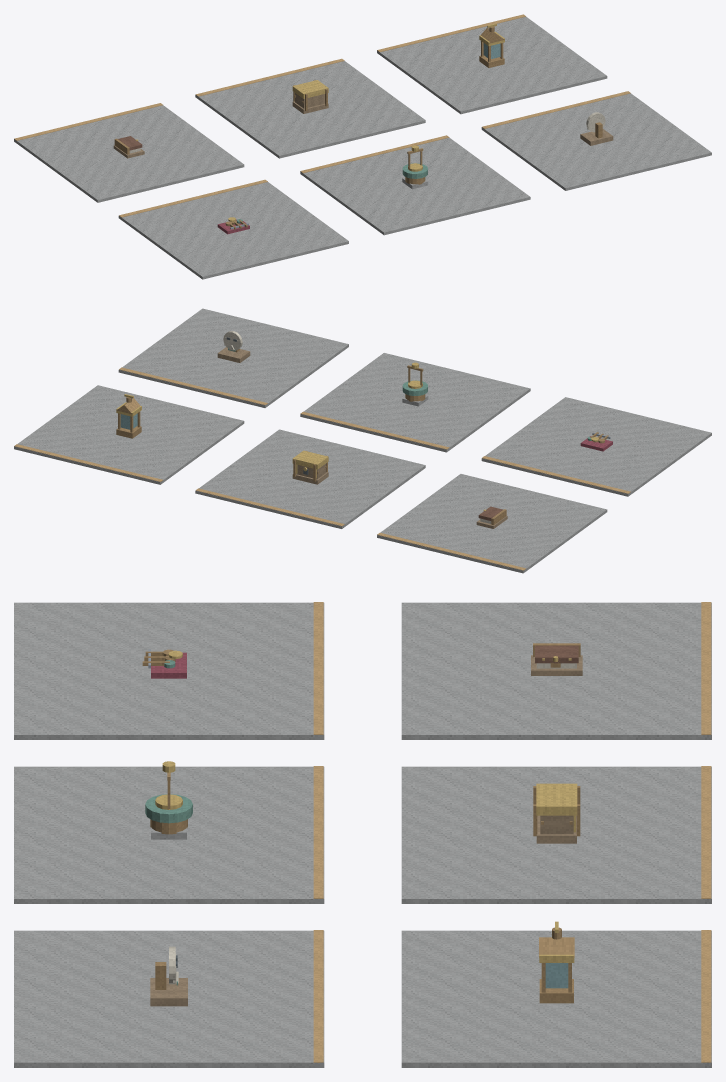
The model's file is level_blockout_kit_castle_p05.glb.
3 views of the same model, one above another, from view 1: azimuth 30°, elevation 25°; view 2: azimuth 150°, elevation 25°; view 3: azimuth 270°, elevation 25° (orthographic). The views are drawn at different scales.
Parts seen in each view (by area): view 1: level_blockout_kit_castle_p05; view 2: level_blockout_kit_castle_p05; view 3: level_blockout_kit_castle_p05.
Part boxes in pixels (x1,y1,x2,y2): level_blockout_kit_castle_p05: (14, 14, 711, 279); level_blockout_kit_castle_p05: (14, 308, 711, 573); level_blockout_kit_castle_p05: (14, 602, 711, 1067).
Size of the model in its own units: 19.65 by 1.51 by 12.6.
Materials: 13 (13 with a texture image).
